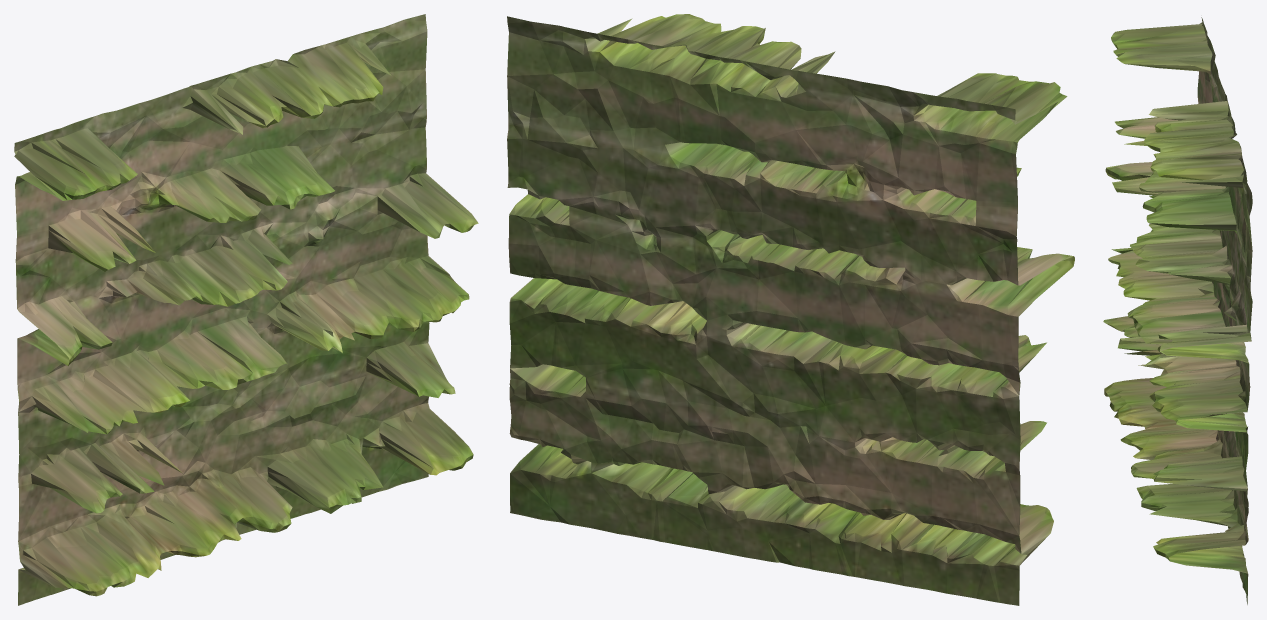
The model's file is map_120_60.obj.
3 renders of one model, left to right at view 1: azimuth 30°, elevation 25°; view 2: azimuth 150°, elevation 25°; view 3: azimuth 270°, elevation 25°, orthographic. The views are drawn at different scales.
Parts seen in each view (by area): view 1: grp1; view 2: grp1; view 3: grp1.
Part boxes in pixels (<box>): grp1: <box>14,14,478,605</box>; grp1: <box>507,14,1074,605</box>; grp1: <box>1103,17,1252,604</box>.
Bounding box in the file's own units: 10 × 10 × 3.36.
1 material, 1 textured.
